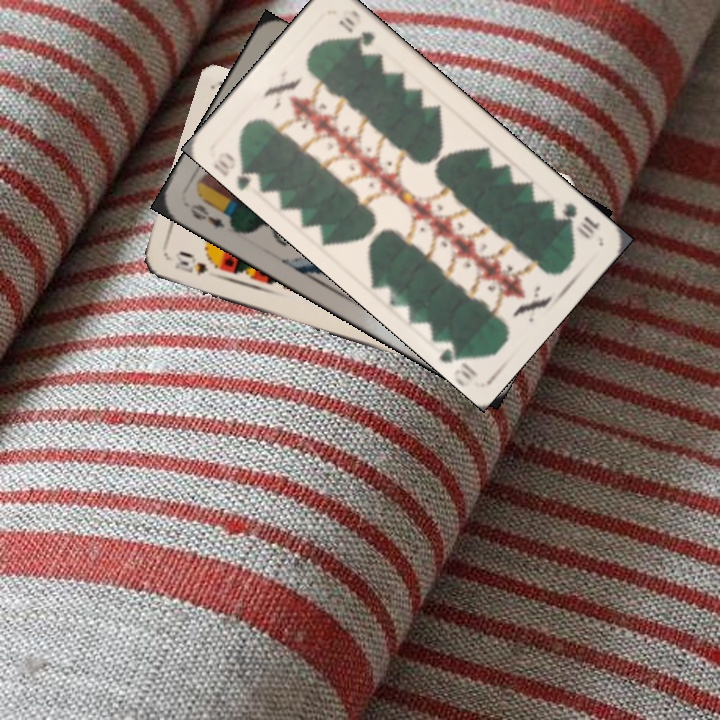EO: (186, 200, 228, 231)
G10: (548, 198, 602, 242), (213, 147, 263, 192)
S10: (170, 256, 211, 279)
